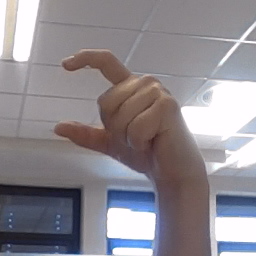C: (52, 46, 201, 183)
